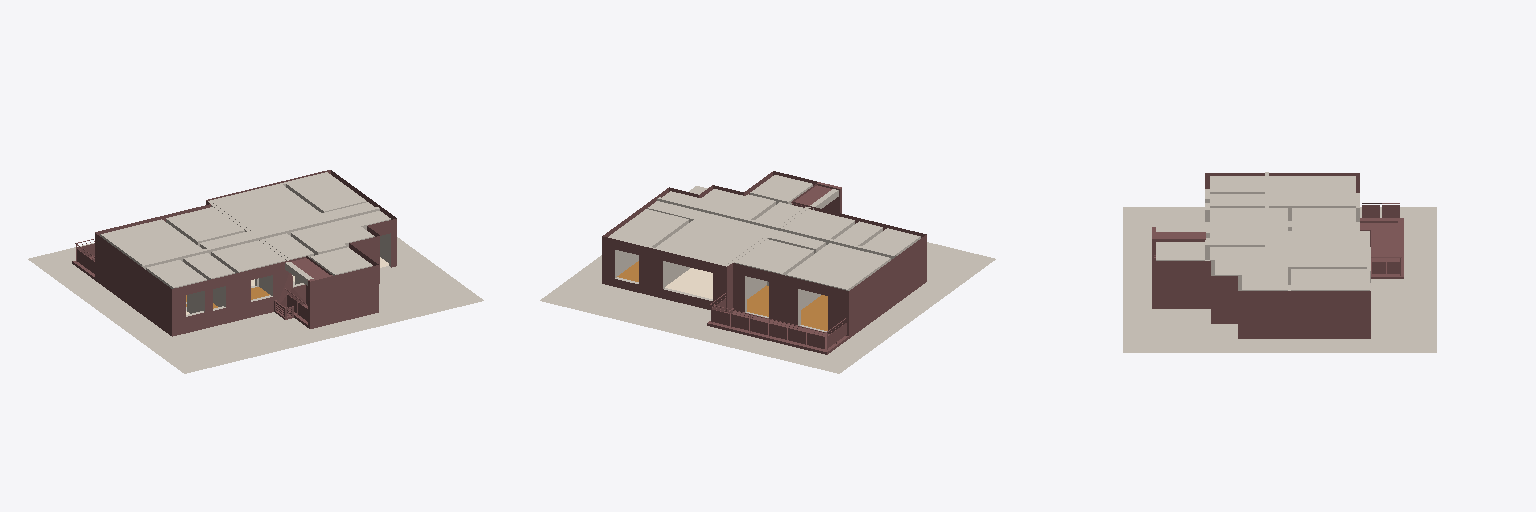
The model's file is main.obj.
3 renders of one model, left to right at view 1: azimuth 30°, elevation 25°; view 2: azimuth 150°, elevation 25°; view 3: azimuth 270°, elevation 25°, orthographic.
Visible parts, largest first — view 1: 主体, 外墙, 水平面, 梁; view 2: 主体, 外墙, 水平面, 梁; view 3: 水平面, 主体, 外墙, 梁.
Part boxes in pixels (left/top/right/bottom): 主体: left=100, top=173, right=390, bottom=316; 外墙: left=72, top=170, right=396, bottom=336; 水平面: left=28, top=237, right=483, bottom=373; 梁: left=142, top=172, right=379, bottom=285; 主体: left=609, top=175, right=920, bottom=331; 外墙: left=602, top=171, right=926, bottom=354; 水平面: left=540, top=186, right=995, bottom=373; 梁: left=608, top=189, right=895, bottom=266; 水平面: left=1123, top=207, right=1436, bottom=352; 主体: left=1156, top=176, right=1370, bottom=290; 外墙: left=1152, top=173, right=1403, bottom=338; 梁: left=1156, top=172, right=1369, bottom=290.
Bounding box in the file's own units: 761 × 121 × 691.